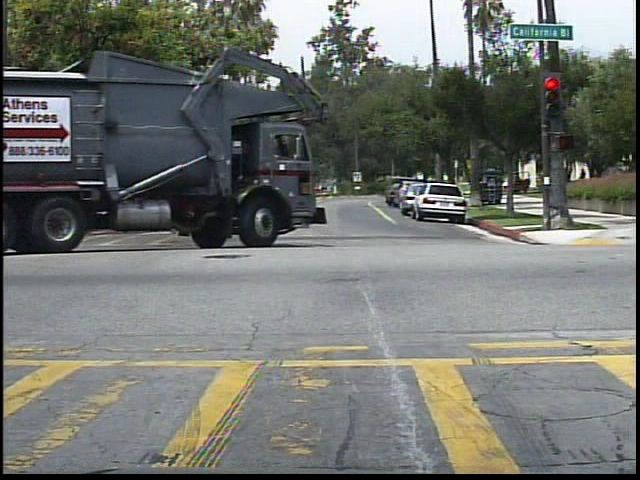person: (574, 163, 593, 194)
